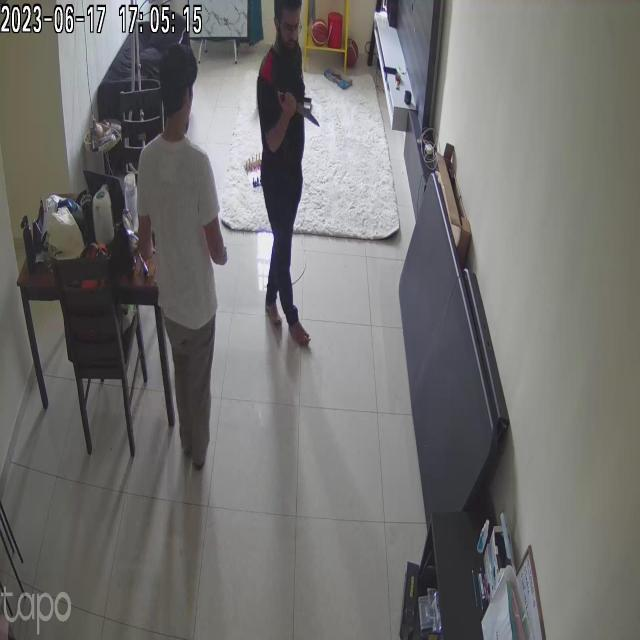Knife: (274, 92, 324, 133)
